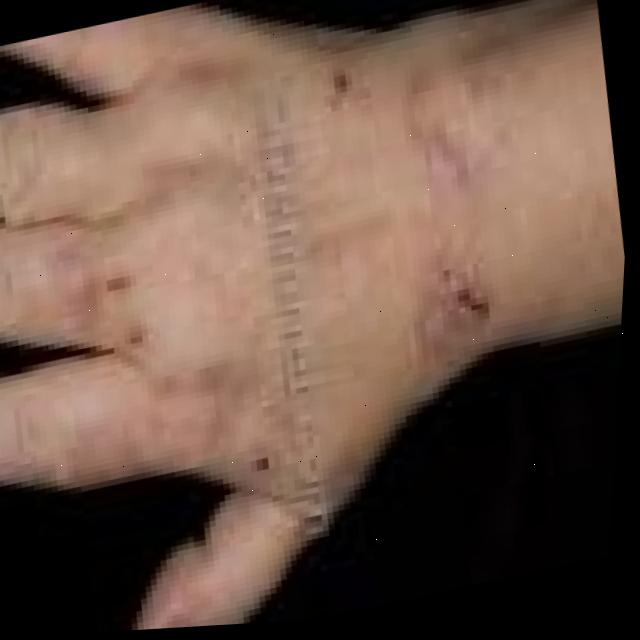Melasma: (398, 39, 499, 167), (412, 227, 515, 344), (97, 276, 161, 356), (305, 69, 350, 114), (238, 455, 290, 491)
